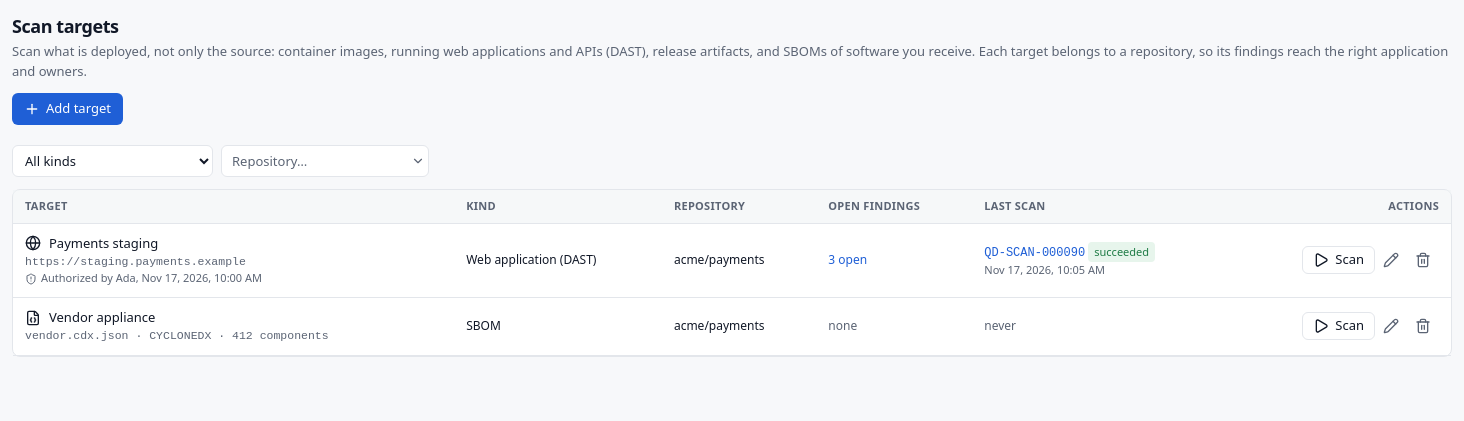
Scenario: scan targets › lists targets with authorization, findings and last scan, and queues a scan
Check: the text "Payments staging" is shown, box x1=25 y1=234 x2=158 y2=252
Check: the text "Authorized by Ada, Nov 17, 2026, 10:00 AM" is shown, box x1=25 y1=270 x2=262 y2=285
Click the button with aria-label "Scan Payments staging": (1339,260) x1=1302 y1=246 x2=1375 y2=274
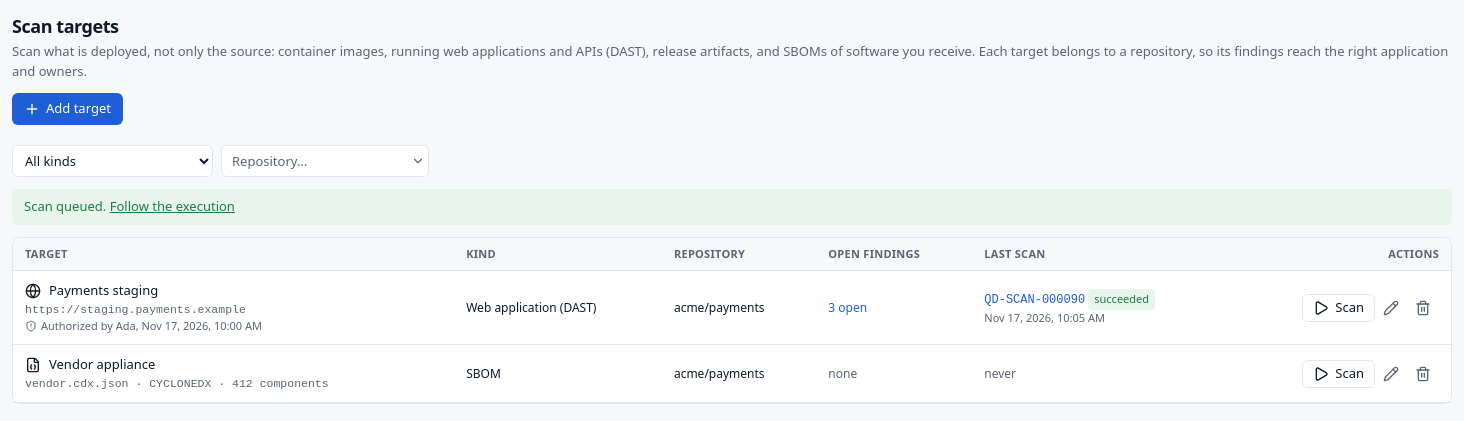
Check: the text "Scan queued. Follow the execution" is shown, box x1=12 y1=189 x2=1452 y2=224
